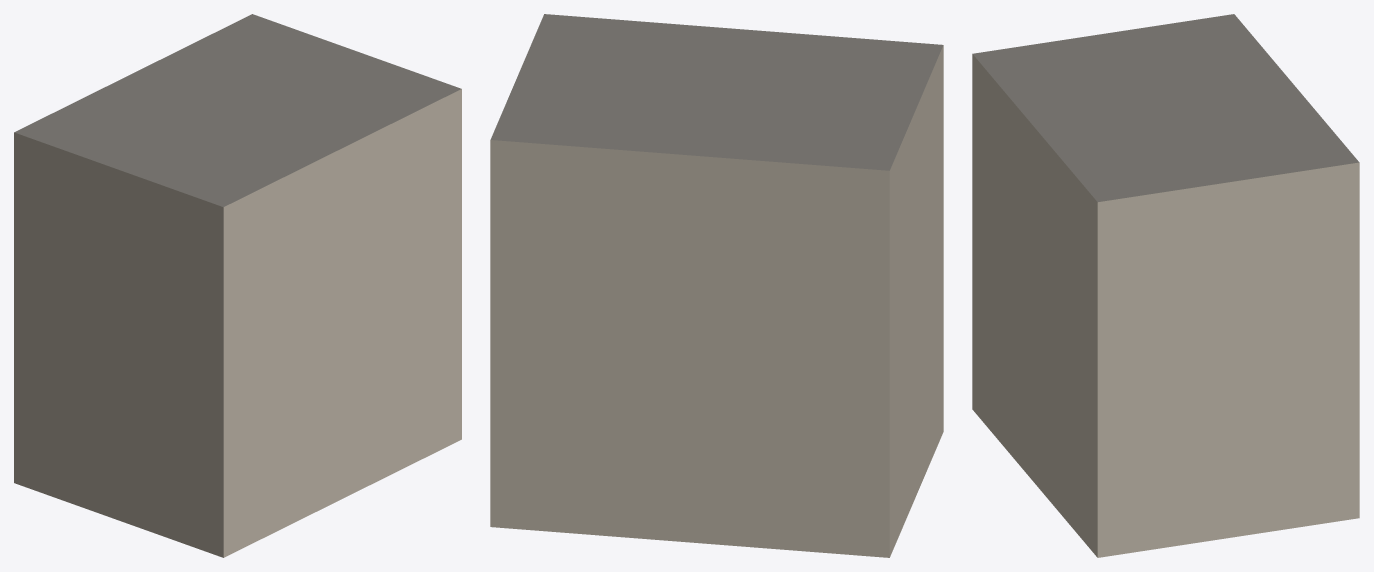
The picture shows the model from 3 angles, left to right: view 1: azimuth 30°, elevation 25°; view 2: azimuth 150°, elevation 25°; view 3: azimuth 270°, elevation 25°; orthographic projection. The views are drawn at different scales.
Parts seen in each view (by area): view 1: HP-w389701920; view 2: HP-w389701920; view 3: HP-w389701920.
Boxes of the visible parts, left/top/right/bottom form: HP-w389701920: left=14, top=14, right=461, bottom=557; HP-w389701920: left=490, top=14, right=943, bottom=557; HP-w389701920: left=972, top=14, right=1359, bottom=557.
Bounding box in the file's own units: 20.43 × 18 × 17.75.
